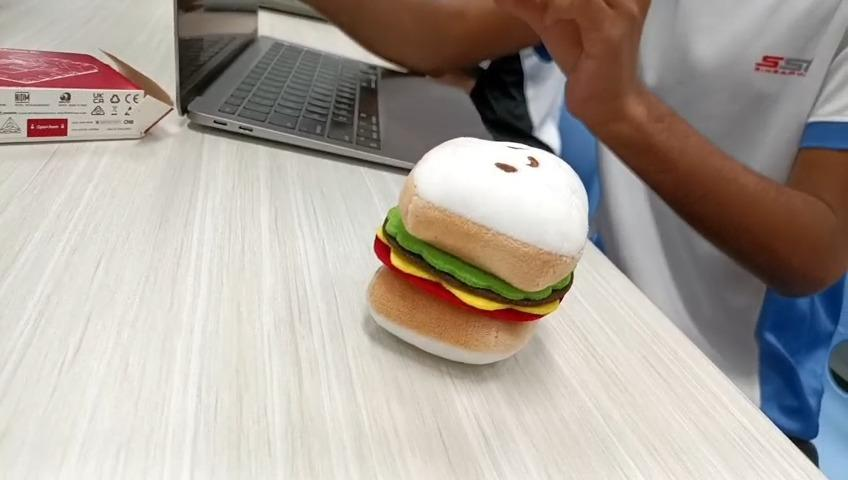objects: (365, 135, 590, 365)
